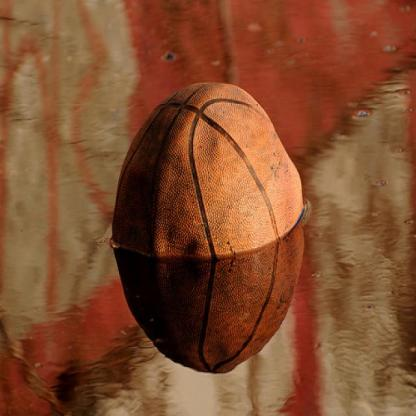basketball: (110, 79, 303, 258)
